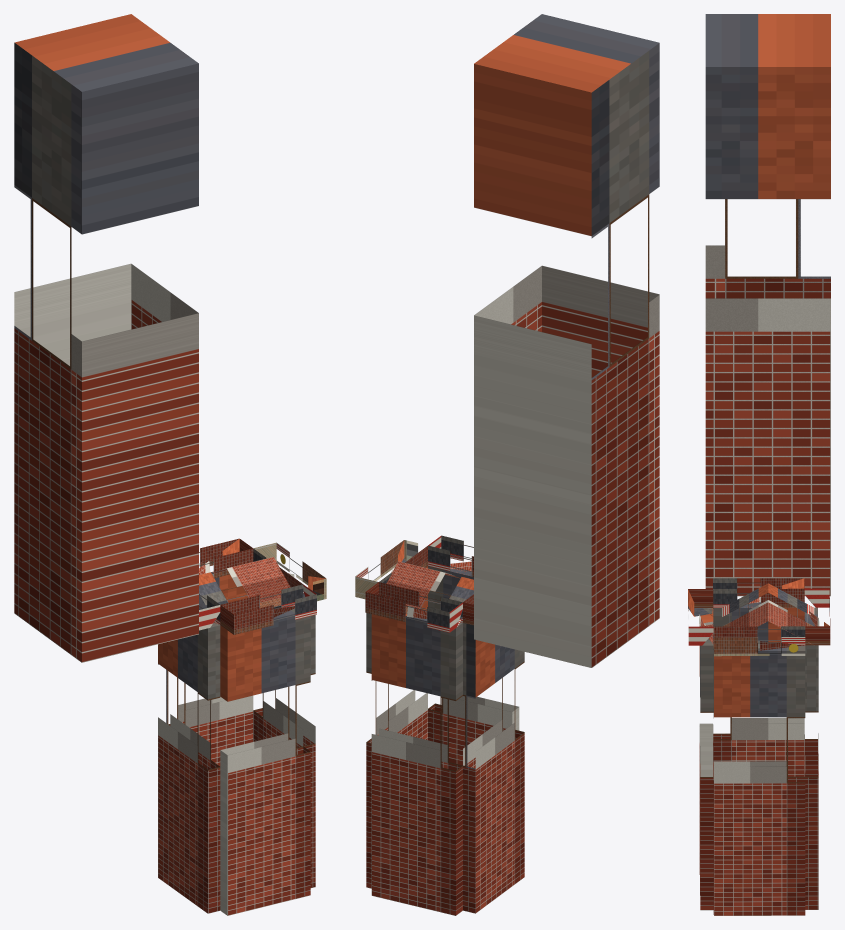
3 renders of one model, left to right at view 1: azimuth 30°, elevation 25°; view 2: azimuth 150°, elevation 25°; view 3: azimuth 270°, elevation 25°, orthographic. The views are drawn at different scales.
Visible parts, largest first — view 1: 1106967117__chimney_0_xb, 1106967117__wall_2_xb, 1106967117__wall_3_xb, 1106967117__wall_0_xb, 1106967117__wall_1_xb, 1106967117__cornice_2, 1106967117_roof_-1_xb, 1106967117__cornice_0, 1106967117__cornice_1; view 2: 1106967117__chimney_0_xb, 1106967117__wall_0_xb, 1106967117__wall_3_xb, 1106967117__wall_2_xb, 1106967117__wall_1_xb, 1106967117__cornice_0, 1106967117_roof_1_xb, 1106967117__cornice_1, 1106967117__cornice_2; view 3: 1106967117__chimney_0_xb, 1106967117__wall_1_xb, 1106967117__wall_3_xb, 1106967117__wall_2_xb, 1106967117__wall_0_xb, 1106967117__cornice_1, 1106967117__cornice_3, 1106967117__cornice_2, 1106967117_roof_-1_xb, 1106967117_roof_1_xb, 1106967117__cornice_0.
Boxes of the visible parts, x1=… form: 1106967117__chimney_0_xb: x1=14, y1=14, x2=198, y2=662; 1106967117__wall_2_xb: x1=220, y1=608, x2=310, y2=915; 1106967117__wall_3_xb: x1=158, y1=622, x2=220, y2=913; 1106967117__wall_0_xb: x1=168, y1=571, x2=253, y2=766; 1106967117__wall_1_xb: x1=253, y1=593, x2=315, y2=887; 1106967117__cornice_2: x1=220, y1=584, x2=316, y2=634; 1106967117_roof_-1_xb: x1=199, y1=557, x2=290, y2=607; 1106967117__cornice_0: x1=199, y1=538, x2=253, y2=578; 1106967117__cornice_1: x1=253, y1=542, x2=326, y2=601; 1106967117__chimney_0_xb: x1=474, y1=14, x2=659, y2=667; 1106967117__wall_0_xb: x1=371, y1=614, x2=462, y2=915; 1106967117__wall_3_xb: x1=463, y1=623, x2=524, y2=913; 1106967117__wall_2_xb: x1=428, y1=566, x2=519, y2=765; 1106967117__wall_1_xb: x1=366, y1=566, x2=427, y2=888; 1106967117__cornice_0: x1=365, y1=582, x2=462, y2=632; 1106967117_roof_1_xb: x1=386, y1=561, x2=473, y2=626; 1106967117__cornice_1: x1=355, y1=540, x2=427, y2=599; 1106967117__cornice_2: x1=428, y1=535, x2=473, y2=576; 1106967117__chimney_0_xb: x1=705, y1=14, x2=830, y2=596; 1106967117__wall_1_xb: x1=713, y1=645, x2=805, y2=915; 1106967117__wall_3_xb: x1=713, y1=602, x2=804, y2=776; 1106967117__wall_2_xb: x1=699, y1=608, x2=713, y2=910; 1106967117__wall_0_xb: x1=804, y1=607, x2=818, y2=909; 1106967117__cornice_1: x1=713, y1=626, x2=805, y2=656; 1106967117__cornice_3: x1=713, y1=578, x2=804, y2=607; 1106967117__cornice_2: x1=688, y1=589, x2=713, y2=645; 1106967117_roof_-1_xb: x1=722, y1=583, x2=768, y2=634; 1106967117_roof_1_xb: x1=768, y1=583, x2=814, y2=643; 1106967117__cornice_0: x1=804, y1=588, x2=830, y2=645.
Size of the model in its own units: 0.3195 by 1.05 by 0.1711.
Materials: 1 (1 with a texture image).
